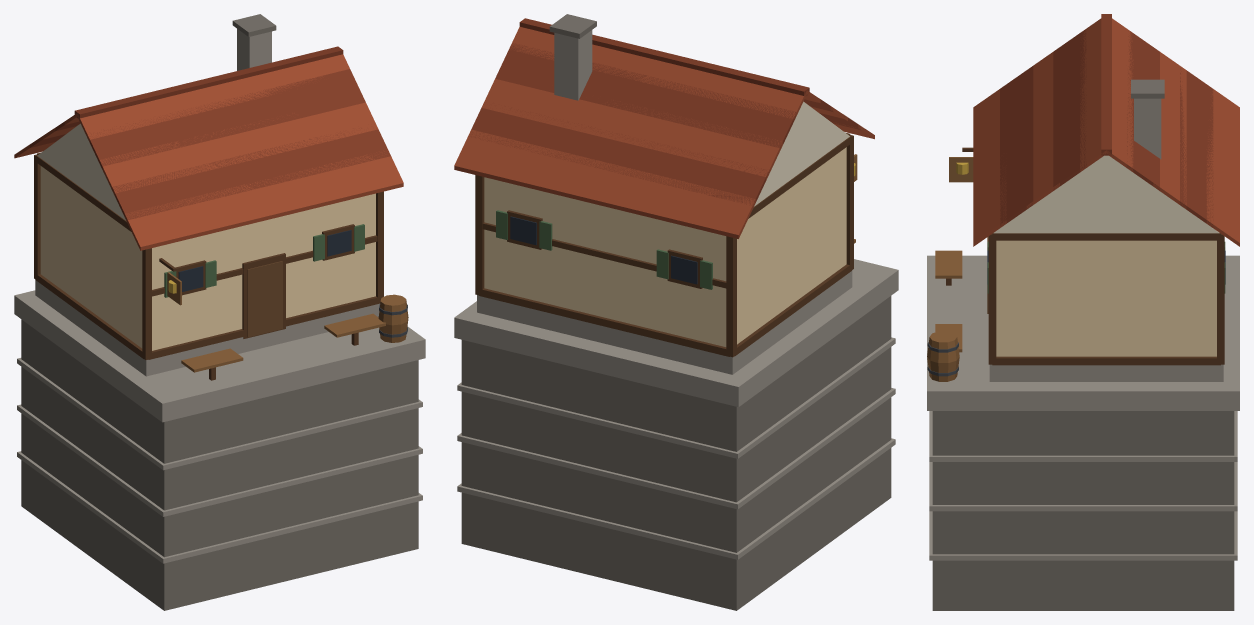
File: tavern.glb
3 views of the same model, side by side, from view 1: azimuth 30°, elevation 25°; view 2: azimuth 150°, elevation 25°; view 3: azimuth 270°, elevation 25° (orthographic). The views are drawn at different scales.
Parts seen in each view (by area): view 1: tavern; view 2: tavern; view 3: tavern.
Boxes of the visible parts, <box> form: tavern: <box>14,14,425,610</box>; tavern: <box>454,14,898,610</box>; tavern: <box>927,14,1239,610</box>.
Size of the model in its own units: 5.9 by 9.98 by 5.75.
